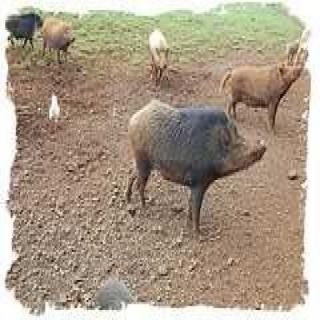Pig: (133, 92, 275, 245)
